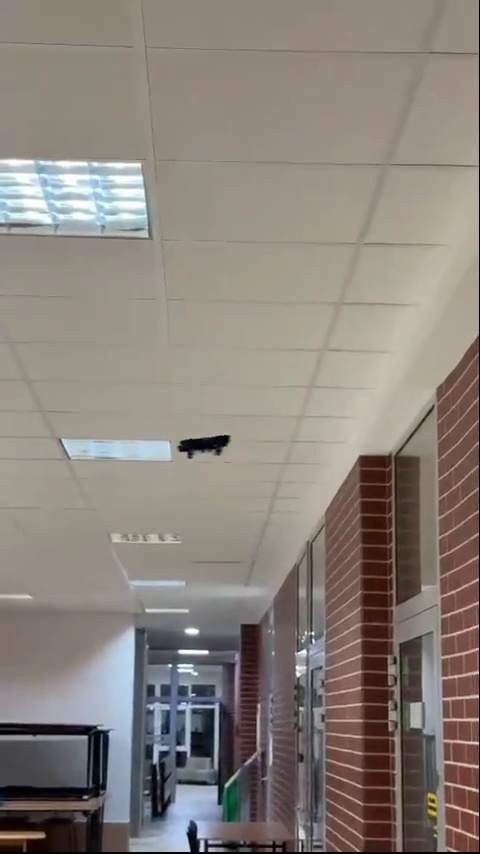drone: (175, 431, 234, 458)
